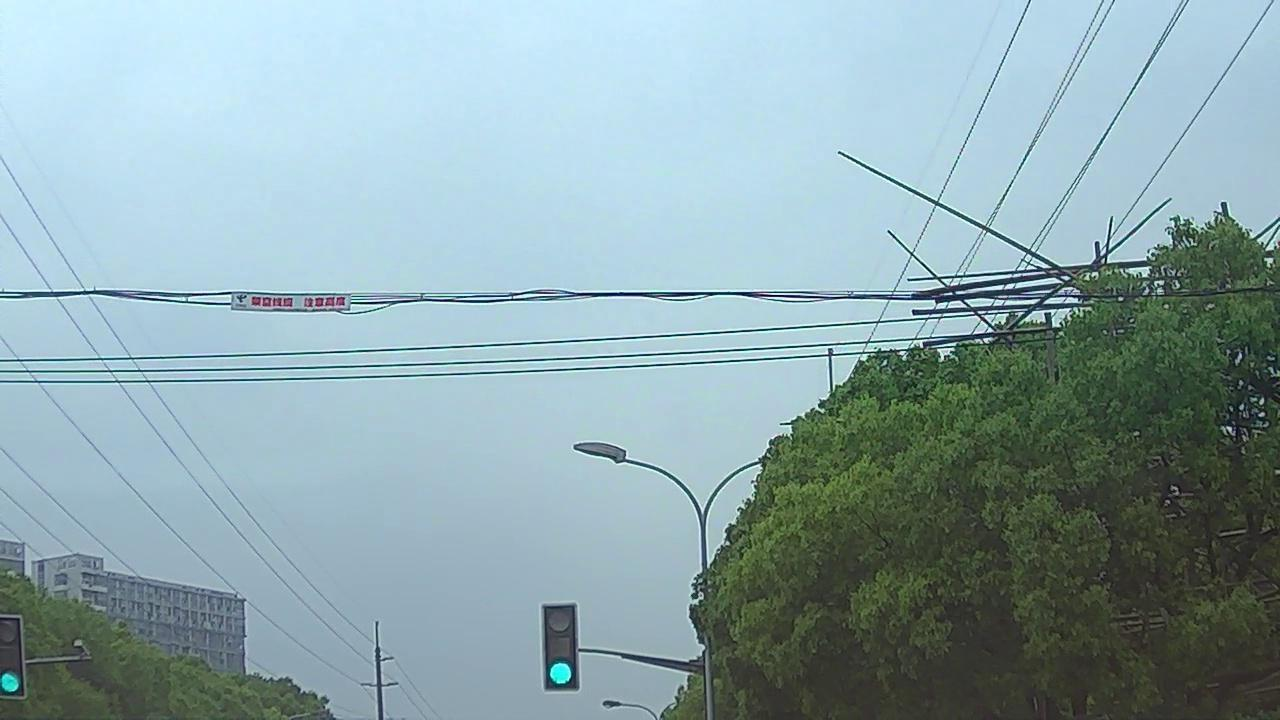traffic_light: (539, 600, 579, 689)
